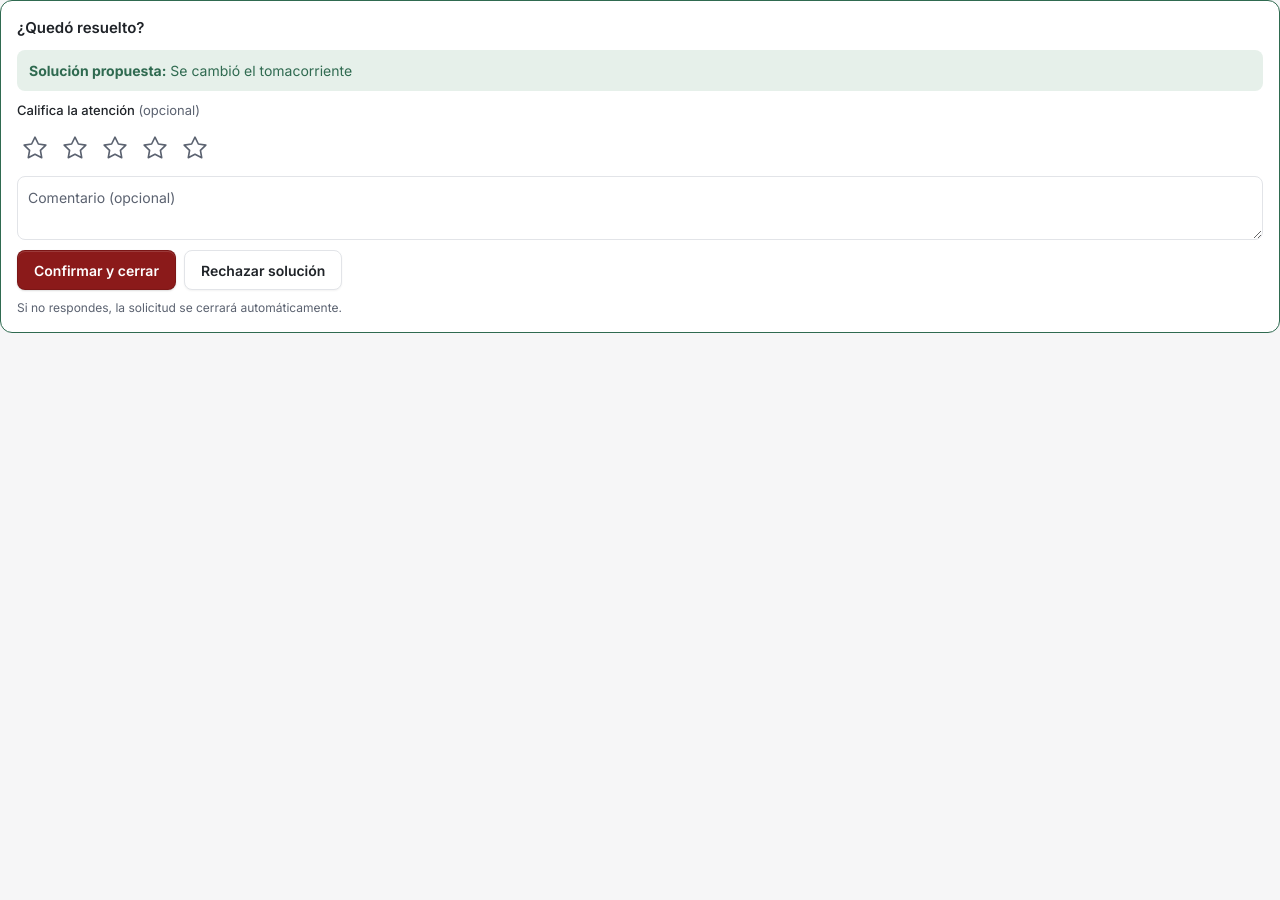
Scenario: SatisfactionPanel: solicitud resuelta › rechazar exige un motivo de al menos 10 caracteres
Click the button "Rechazar solución" at (263, 270), box [184, 250, 342, 290]
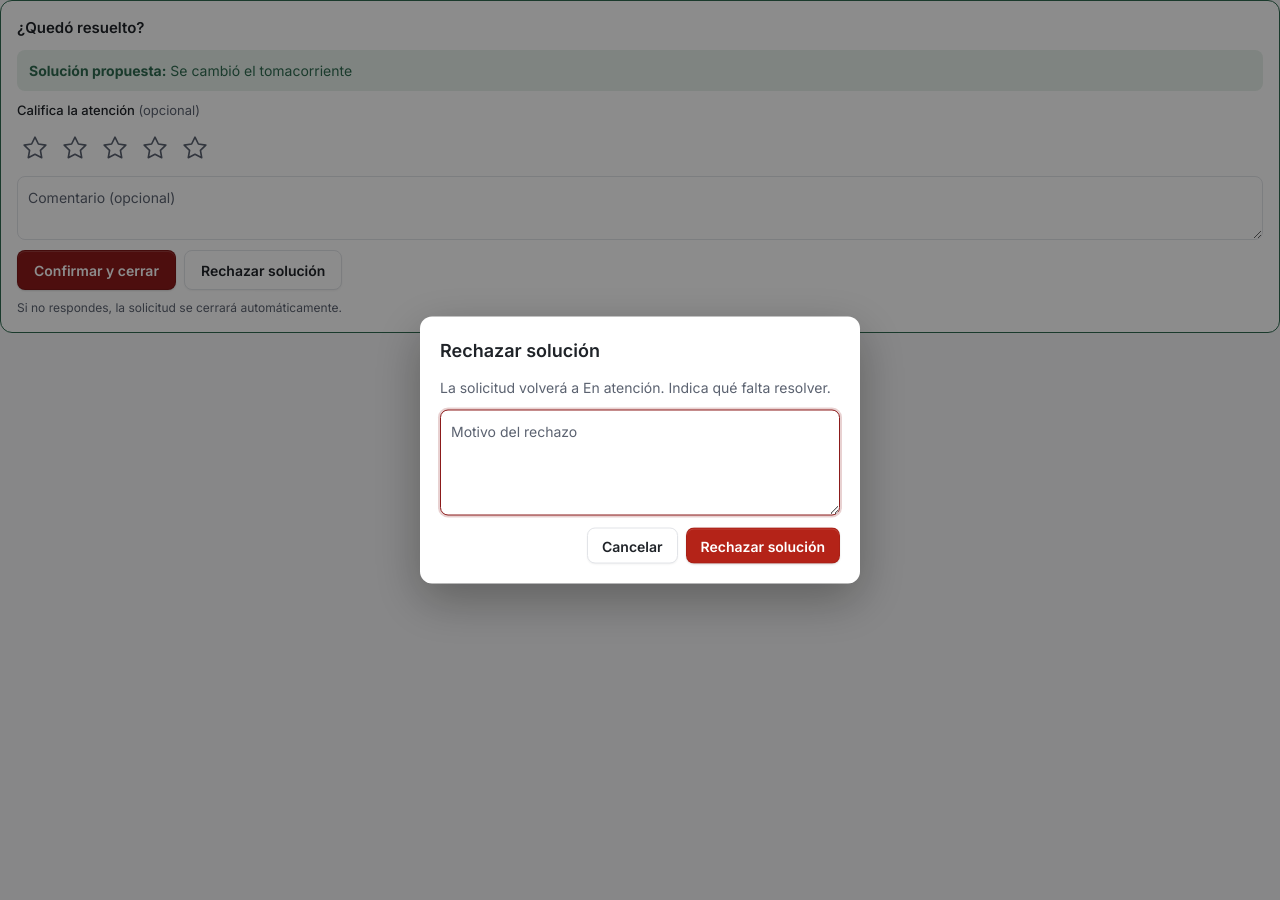
Type "Corto" into the text box labelled "Motivo" at (640, 462), box [440, 410, 840, 516]
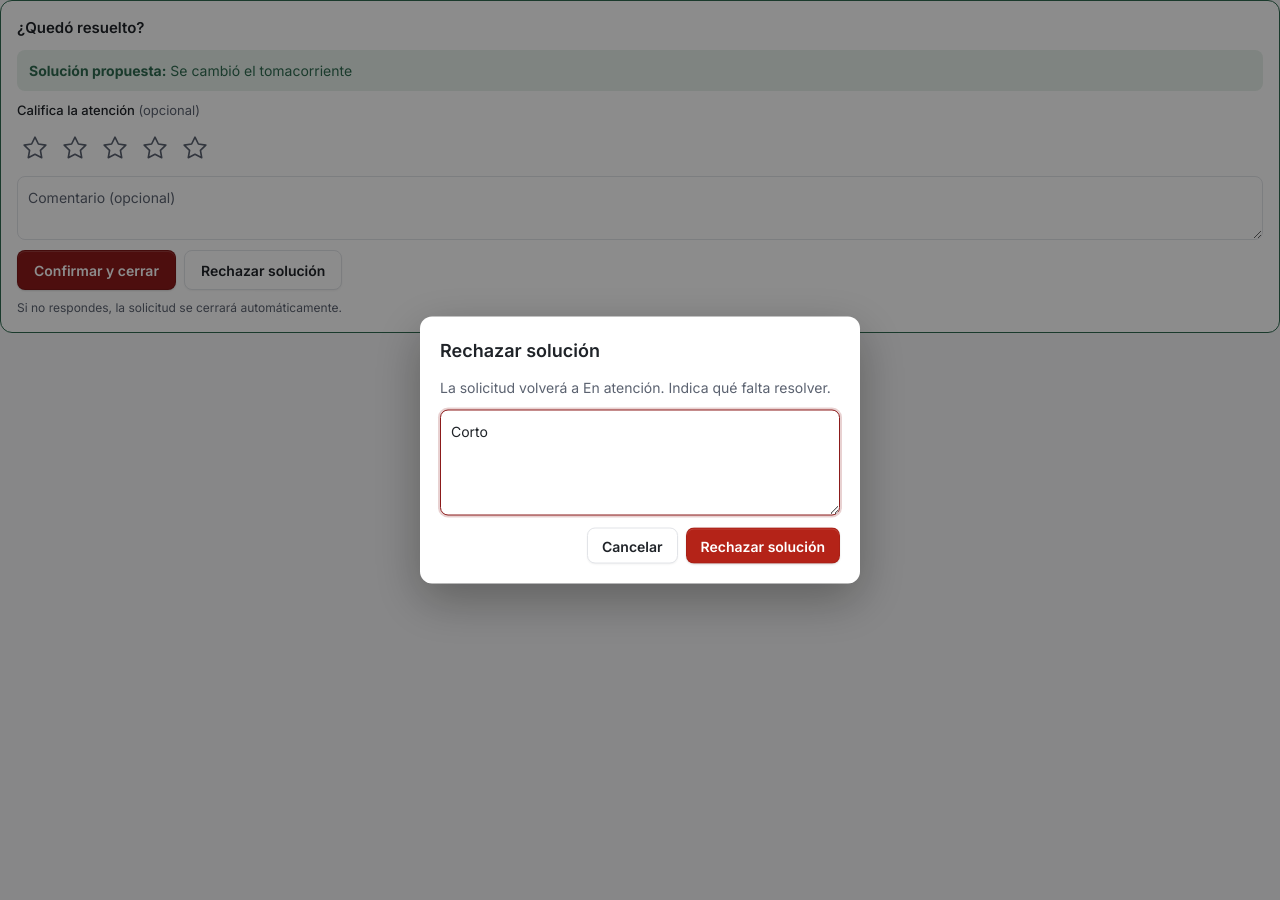
Click the button "Rechazar solución" at (763, 546), box [686, 528, 840, 564]
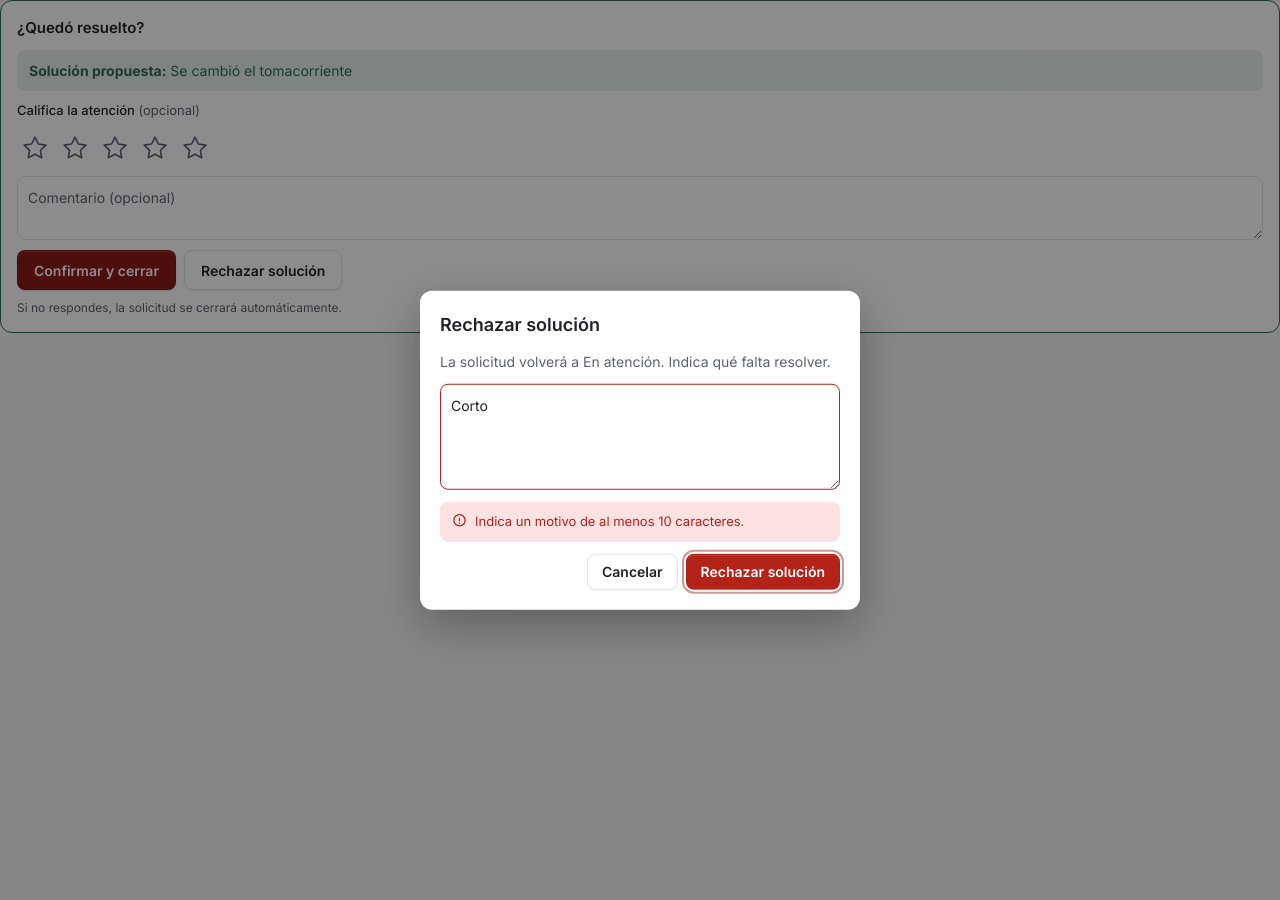
Expected: the dialog "Rechazar solución" shows "Indica un motivo de al menos 10 caracteres.", [475, 513, 744, 529]
